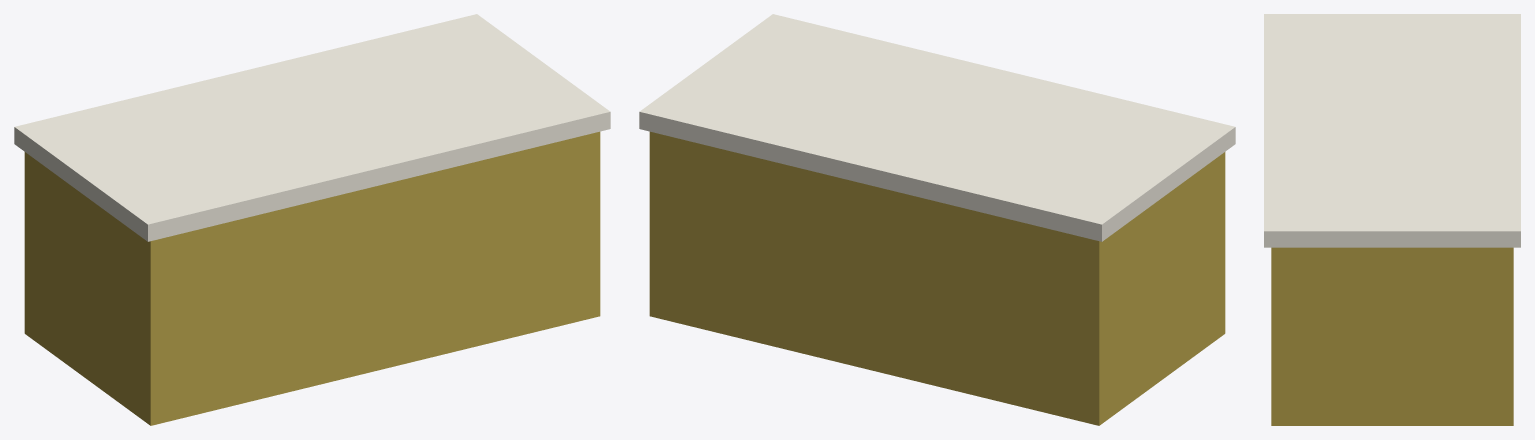
File: kitchen_island.glb
3 renders of one model, left to right at view 1: azimuth 30°, elevation 25°; view 2: azimuth 150°, elevation 25°; view 3: azimuth 270°, elevation 25°, orthographic. The views are drawn at different scales.
Parts seen in each view (by area): view 1: body, top; view 2: body, top; view 3: top, body.
Part boxes in pixels (bbox=[...]): body: bbox=[24, 131, 600, 425]; top: bbox=[14, 14, 610, 241]; body: bbox=[649, 131, 1225, 425]; top: bbox=[639, 14, 1235, 241]; top: bbox=[1264, 14, 1520, 247]; body: bbox=[1271, 247, 1513, 425].
Bounding box in the file's own units: 1.4 × 0.595 × 0.7.
